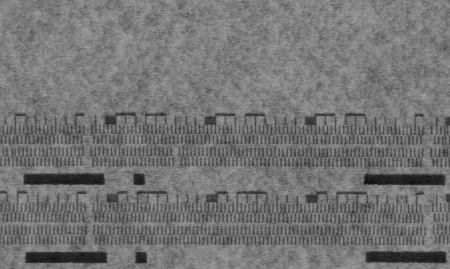Broken hole: (169, 145, 184, 167)
